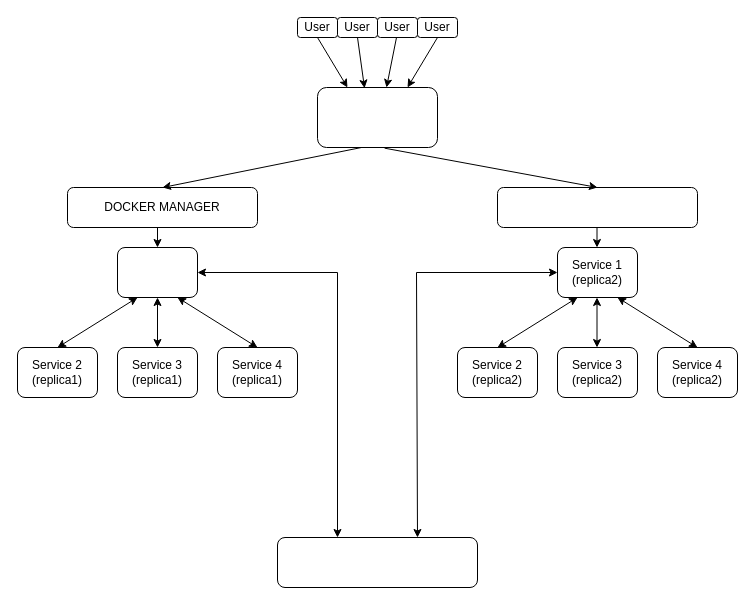
This 755x605 diagram has some shape labels left out. Here are the shapes that lost their labels. From the top down, the box of each, then its label:
(316, 86, 438, 148): NGINX WEB SERVER
(496, 186, 698, 228): DOCKER WORKER
(116, 246, 198, 298): Service 1 (replica1)
(276, 536, 478, 588): MY SQL VOLUME
